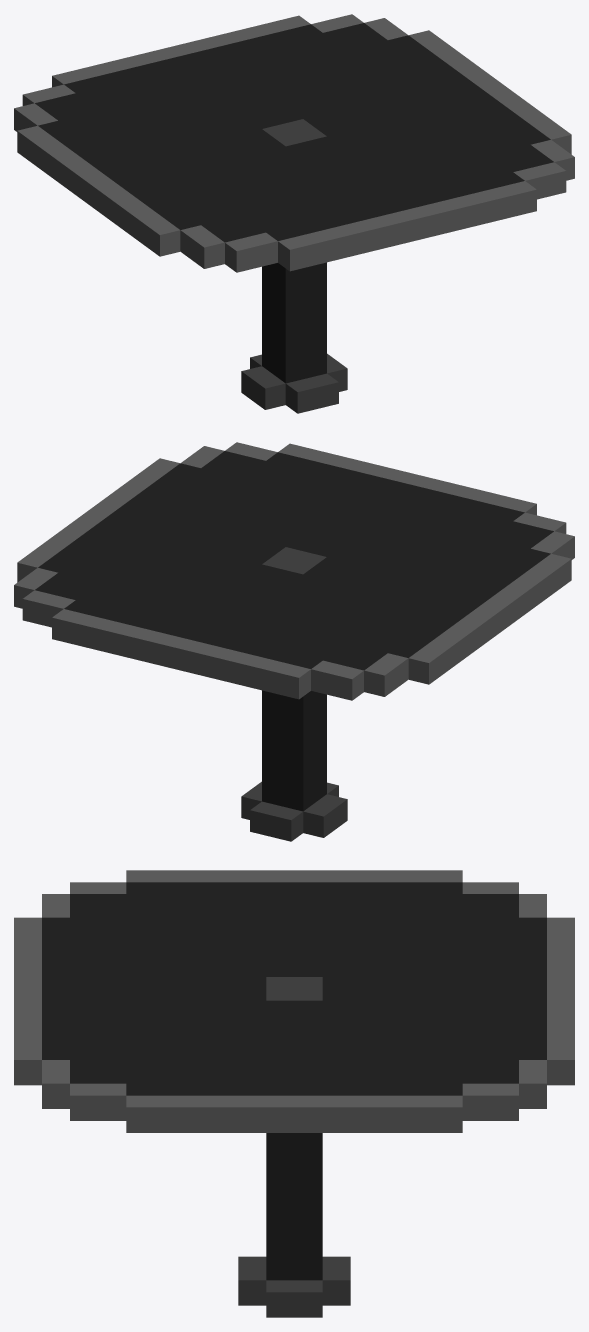
Rendered from OutdoorSquareTable.obj.
3 views of the same model, one above another, from view 1: azimuth 30°, elevation 25°; view 2: azimuth 150°, elevation 25°; view 3: azimuth 270°, elevation 25° (orthographic). The views are drawn at different scales.
Size of the model in its own units: 2 by 1.2 by 2.
1 material, 1 textured.
